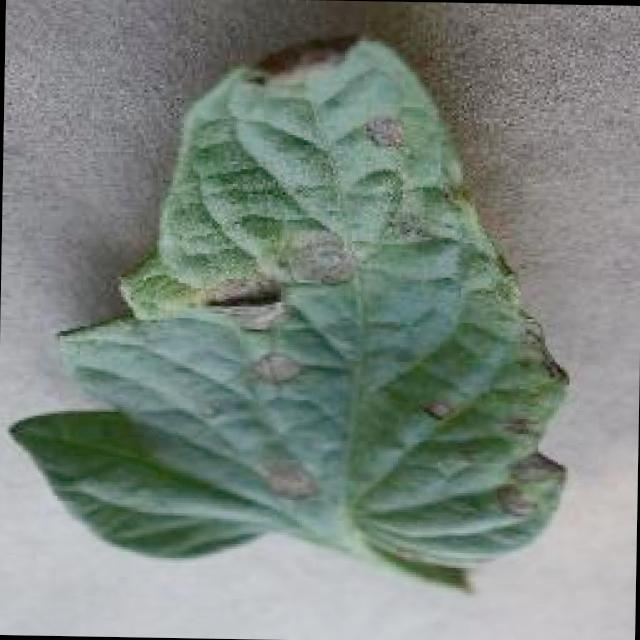Tomato Early blight leaf: (10, 28, 574, 594)
